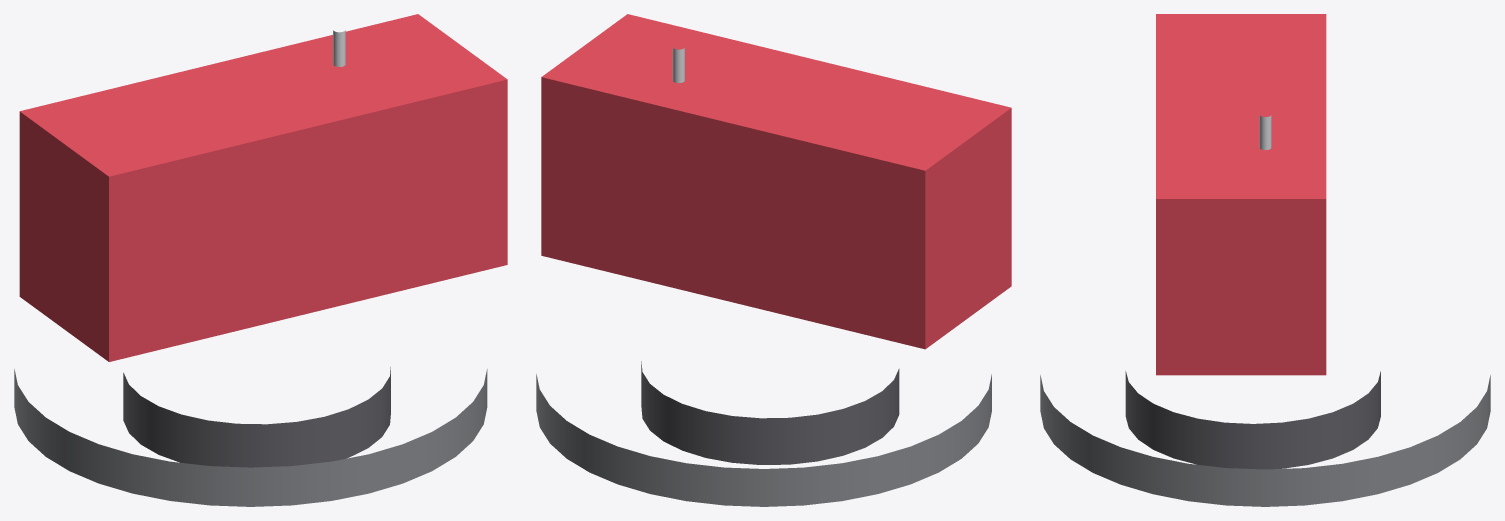
Rendered from ttrs_carbon_brakes_complete.glb.
The picture shows the model from 3 angles, left to right: view 1: azimuth 30°, elevation 25°; view 2: azimuth 150°, elevation 25°; view 3: azimuth 270°, elevation 25°; orthographic projection. The views are drawn at different scales.
Visible parts, largest first — view 1: node_brembo_8pot_caliper, node_ceramic_rotor_ring, node_rotor_hat; view 2: node_brembo_8pot_caliper, node_ceramic_rotor_ring, node_rotor_hat; view 3: node_brembo_8pot_caliper, node_ceramic_rotor_ring, node_rotor_hat.
Boxes of the visible parts, x1,y1,x2,y2 form: node_brembo_8pot_caliper: (19,14,507,361); node_ceramic_rotor_ring: (14,369,487,506); node_rotor_hat: (123,367,390,467); node_brembo_8pot_caliper: (541,14,1011,349); node_ceramic_rotor_ring: (536,374,991,506); node_rotor_hat: (641,361,899,464); node_brembo_8pot_caliper: (1156,14,1326,375); node_ceramic_rotor_ring: (1040,375,1490,506); node_rotor_hat: (1125,371,1380,469).
Bounding box in the file's own units: 0.37 × 0.311 × 0.37.
